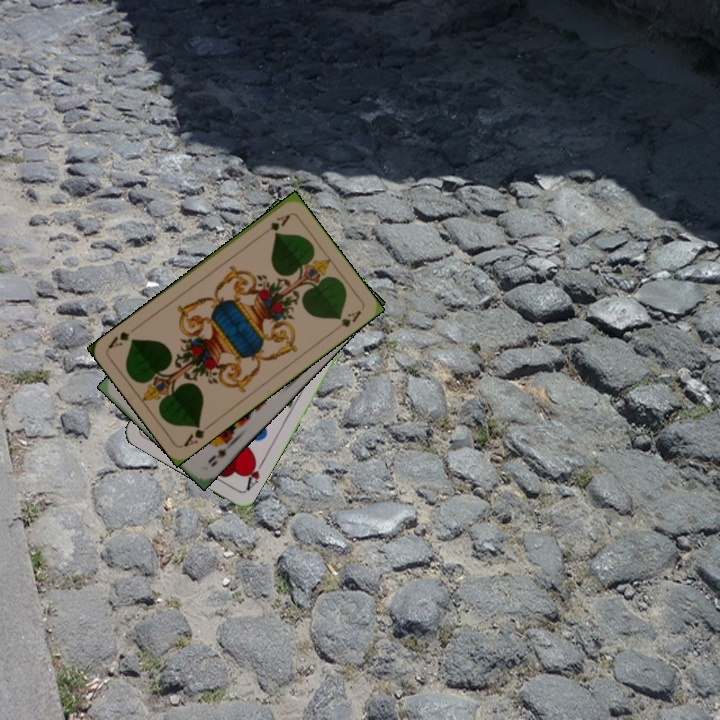GA: (179, 419, 214, 450), (266, 210, 293, 234)
HA: (241, 455, 267, 493)
S9: (203, 436, 235, 469)
